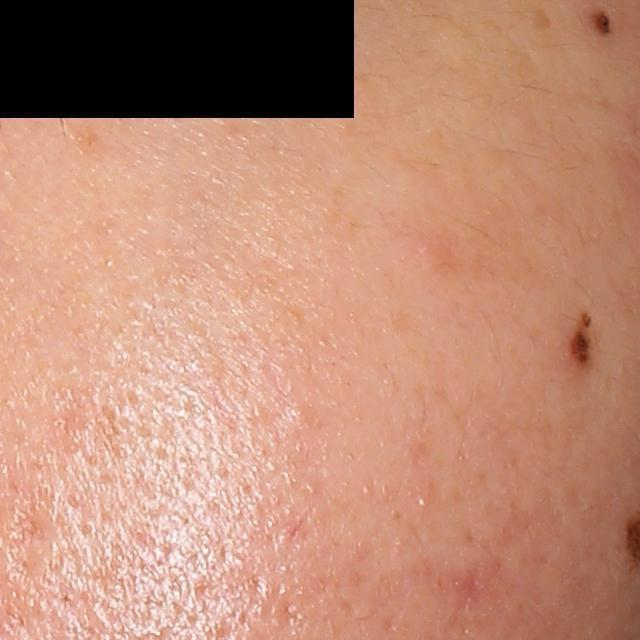comedo: (282, 402, 311, 428)
nevus: (566, 309, 598, 368), (590, 7, 615, 37)
